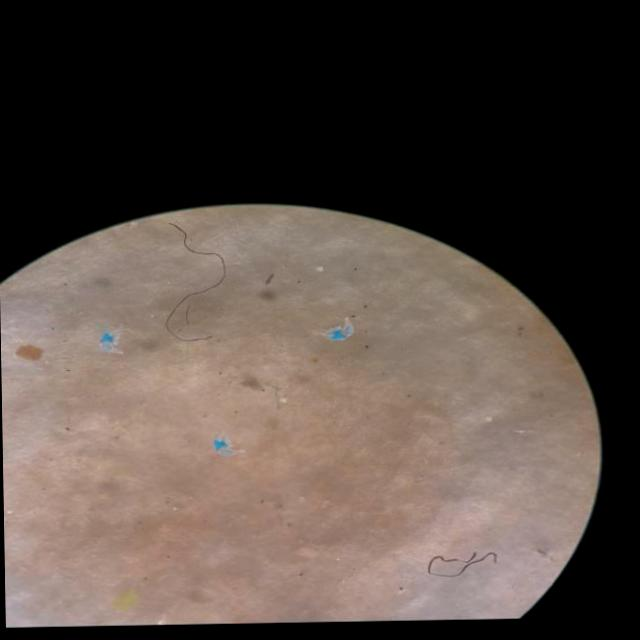fiber: (165, 222, 226, 339), (427, 550, 498, 577)
film: (327, 318, 353, 340), (213, 434, 237, 455)
fragment: (114, 590, 138, 610), (17, 344, 42, 361)
pellet: (485, 416, 492, 421), (317, 266, 323, 271), (280, 398, 287, 402)
